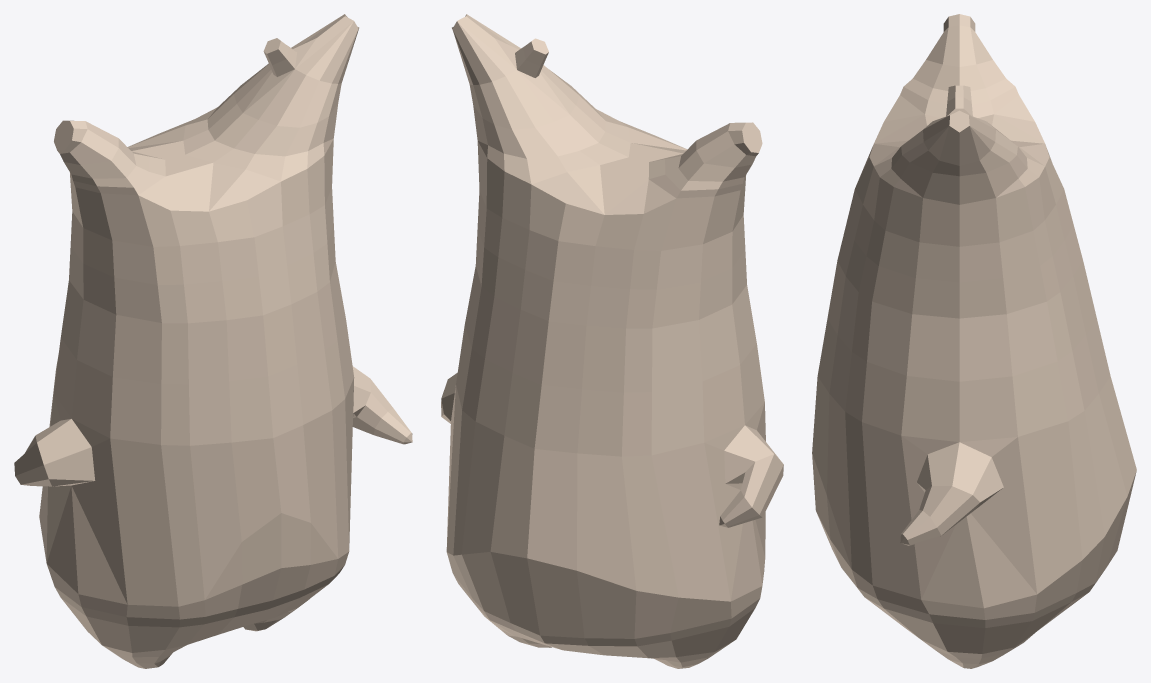
Rendered from frame_0031.obj.
3 views of the same model, side by side, from view 1: azimuth 30°, elevation 25°; view 2: azimuth 150°, elevation 25°; view 3: azimuth 270°, elevation 25° (orthographic).
Visible parts, largest first — view 1: korok; view 2: korok; view 3: korok.
Part boxes in pixels (x1,y1,x2,y2): korok: (14, 14, 412, 668); korok: (441, 14, 783, 668); korok: (812, 14, 1136, 668).
Size of the model in its own units: 1.33 by 2.16 by 1.06.
